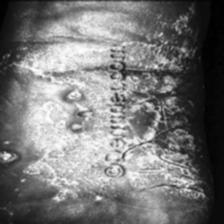Non-Cancerous Skin Condition: (130, 15, 200, 204), (31, 158, 76, 204), (62, 88, 92, 132), (0, 148, 21, 165)
